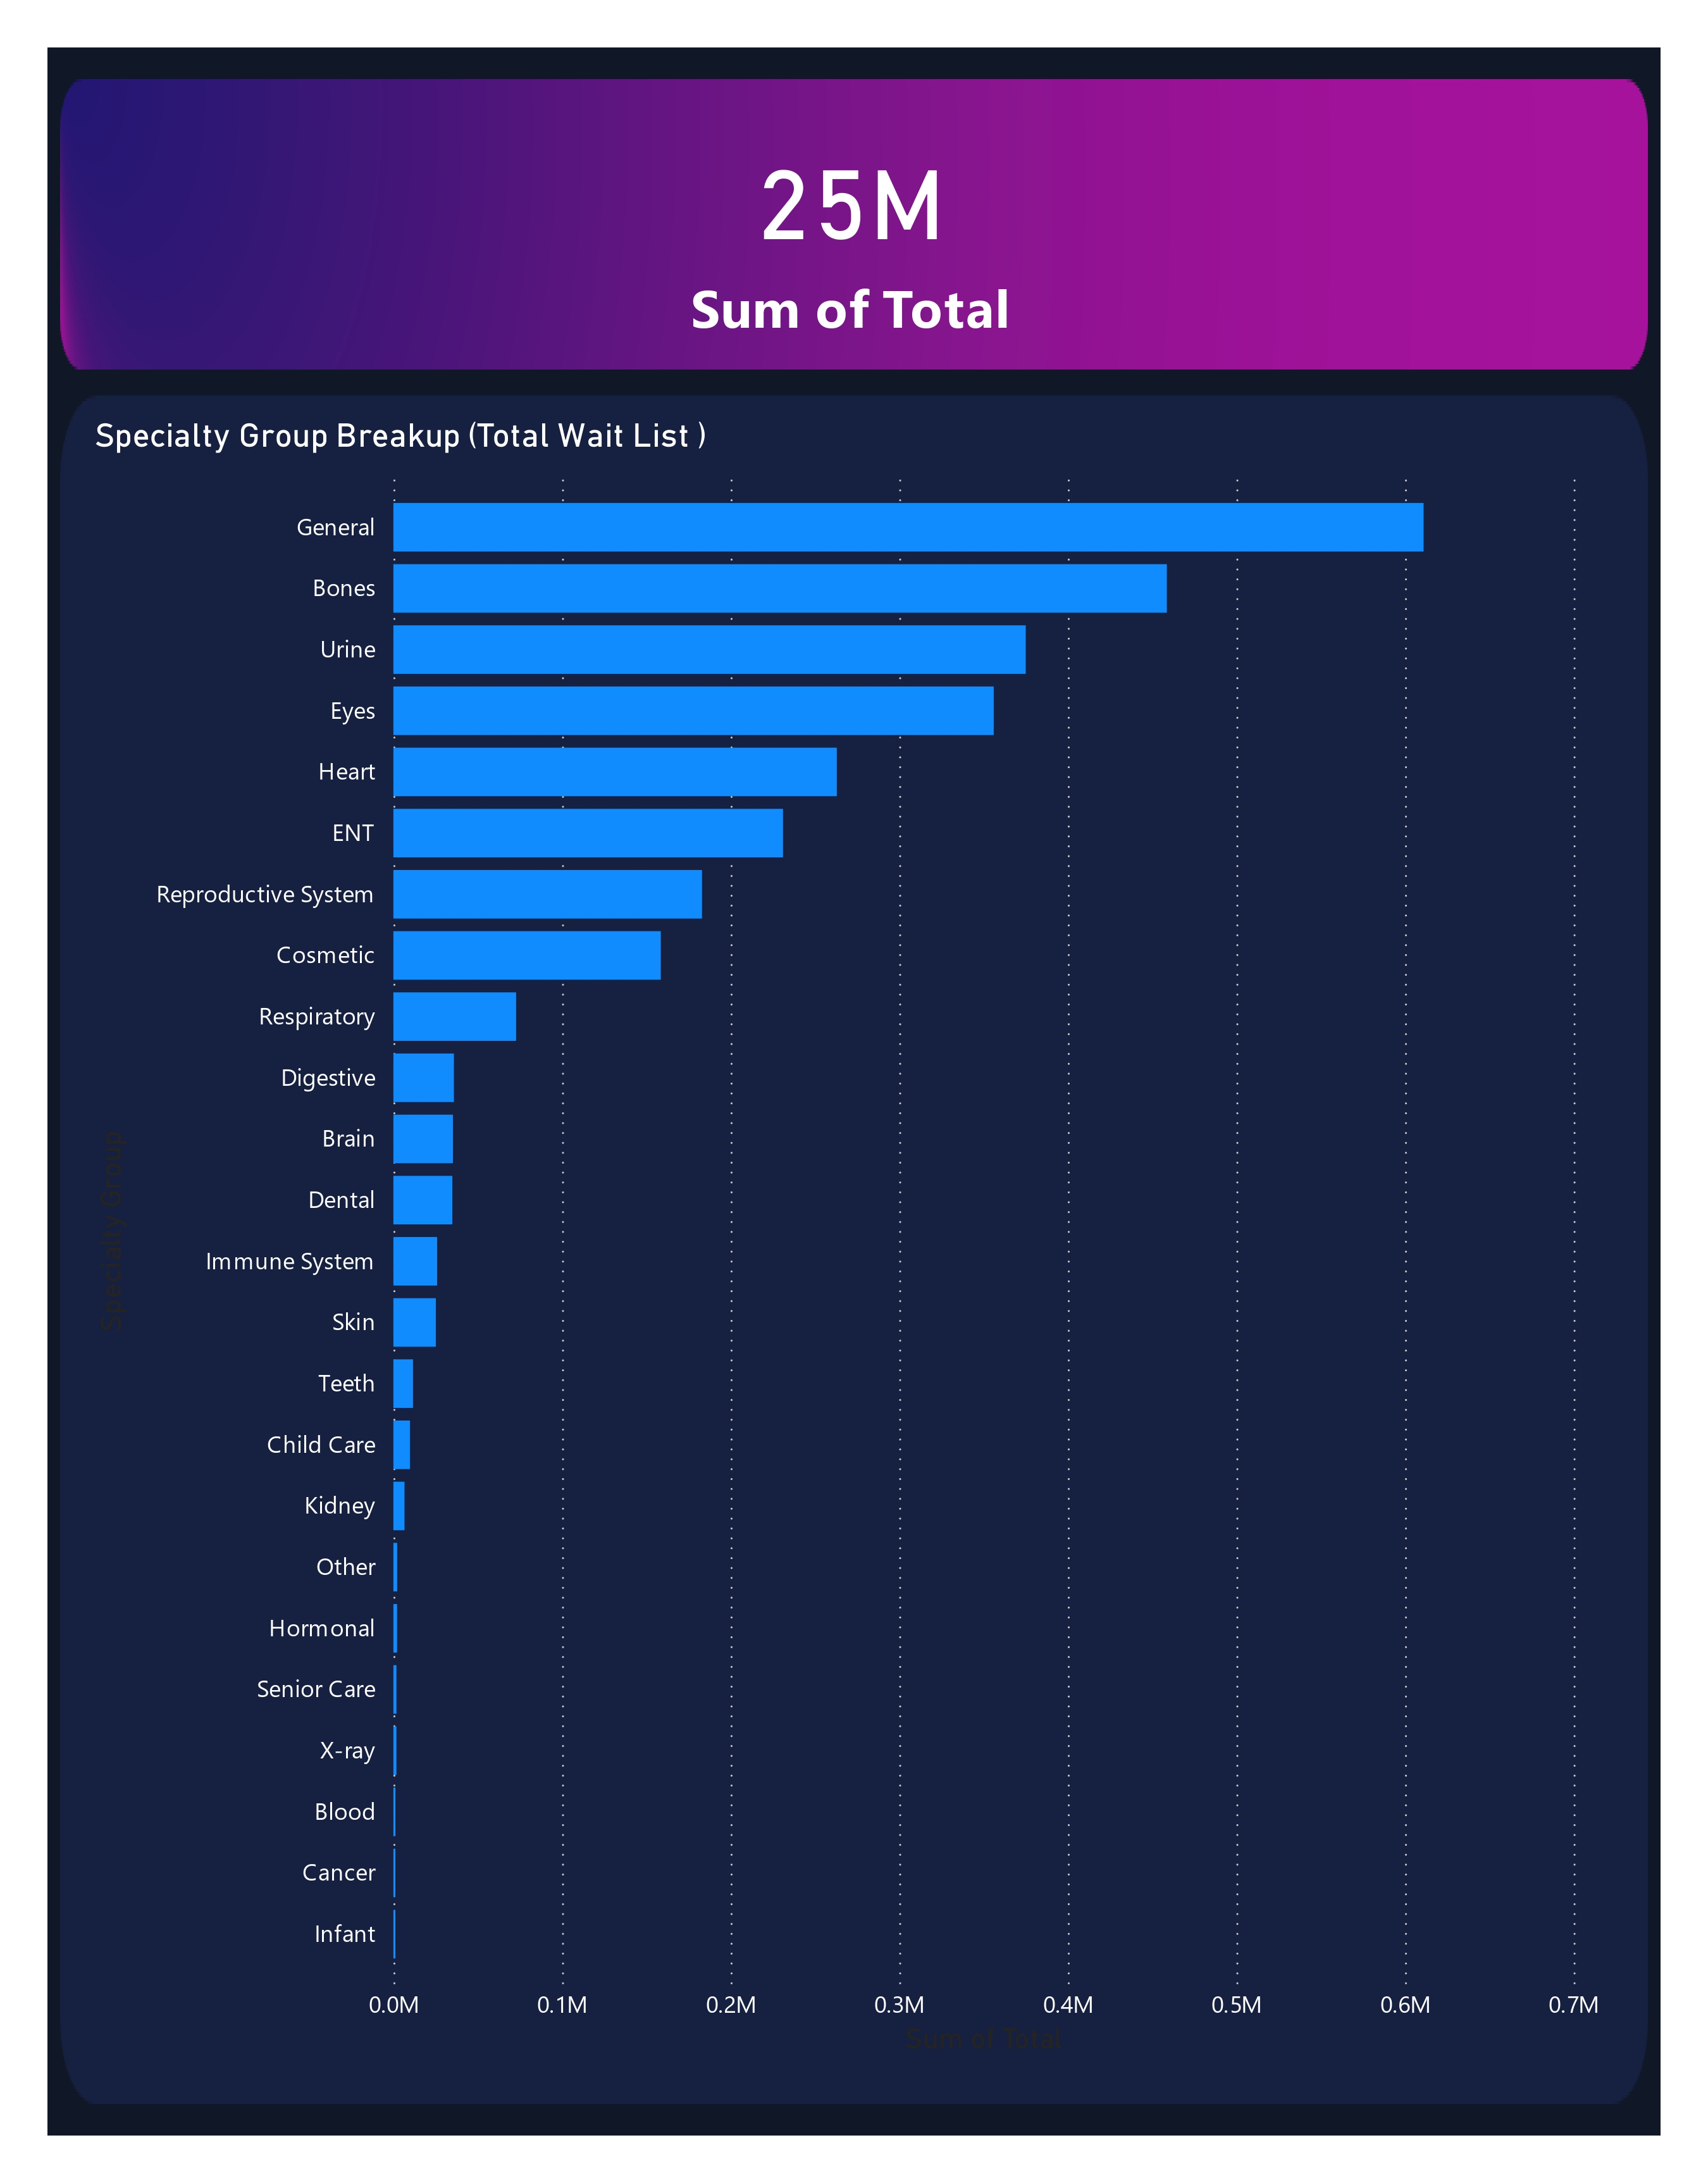

The page's visual inventory and layout, read from the dashboard file:
{"tool":"powerbi","page":{"name":"Drill Down","canvas":[816,1056],"ordinal":2},"visuals":[{"type":"barChart","title":"Specialty Group Breakup (Total Wait List )","fields":{"Category":["Mapping_Specialty.Specialty Group"],"Y":["Sum(All_Data.Total)"]},"box":[19,185.9,770.9,834.2],"z":0},{"type":"card","fields":{"Values":["Sum(All_Data.Total)"]},"box":[156.3,19,500.5,145.7],"z":1000}]}

Visuals, with their boxes on the page's 816x1056 design canvas (x1, y1, x2, y2). These are canvas units, not pixel positions in the 1708x2183 screenshot, which may show the page scaled, cropped or inside an application window:
"Specialty Group Breakup (Total Wait List )" barChart: <region>19, 186, 790, 1020</region>
card - Sum(All_Data.Total): <region>156, 19, 657, 165</region>
